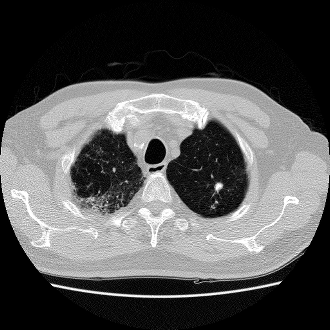nodule: (212, 181, 224, 193)
